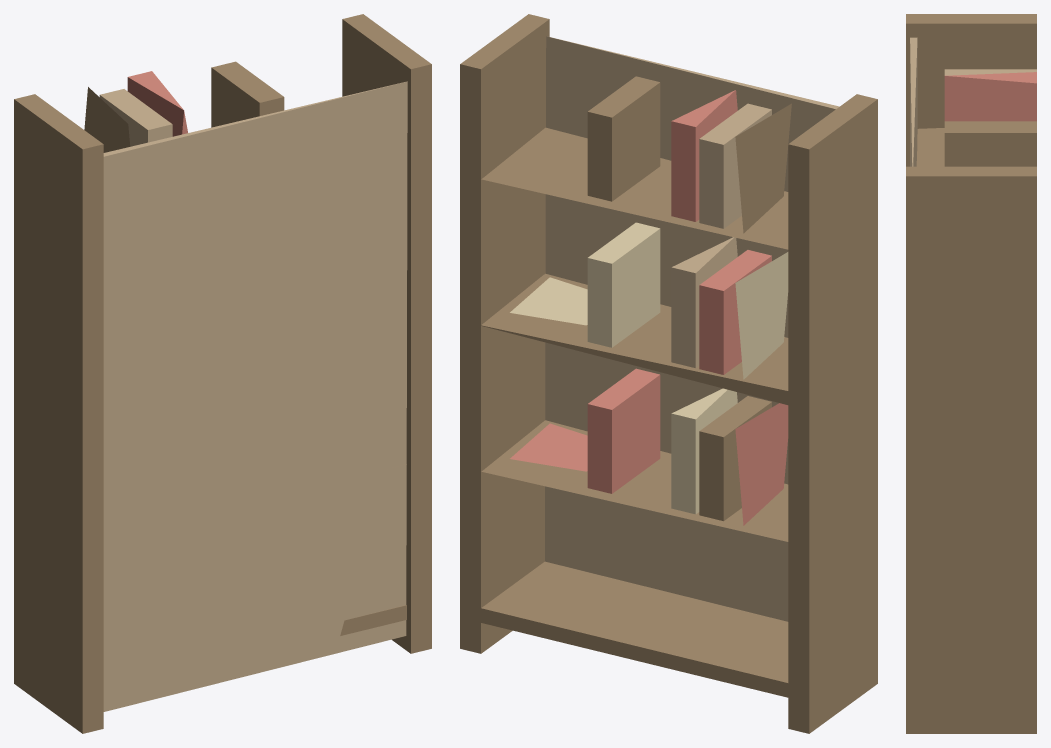
Rendered from 18-Casas_estanteria.glb.
3 renders of one model, left to right at view 1: azimuth 30°, elevation 25°; view 2: azimuth 150°, elevation 25°; view 3: azimuth 270°, elevation 25°, orthographic. The views are drawn at different scales.
Parts seen in each view (by area): view 1: SM_Estanteria_M_Mueble_Madera_Clara, SM_Estanteria_M_Mueble_Madera_Oscura, SM_Estanteria_M_Mueble_Lino_Mueble_Madera_Clara_Mueble_Tela_; view 2: SM_Estanteria_M_Mueble_Madera_Oscura, SM_Estanteria_M_Mueble_Madera_Clara, SM_Estanteria_M_Mueble_Lino_Mueble_Madera_Clara_Mueble_Tela_, SM_Estanteria_M_Mueble_Paja_Mueble_Tela_Roja_Mueble_Madera_C, SM_Estanteria_M_Mueble_Tela_Roja_Mueble_Lino_Mueble_Paja; view 3: SM_Estanteria_M_Mueble_Madera_Oscura, SM_Estanteria_M_Mueble_Lino_Mueble_Madera_Clara_Mueble_Tela_, SM_Estanteria_M_Mueble_Madera_Clara.
Boxes of the visible parts, x1,y1,x2,y2 form: SM_Estanteria_M_Mueble_Madera_Clara: (103,81,407,711); SM_Estanteria_M_Mueble_Madera_Oscura: (14,14,431,733); SM_Estanteria_M_Mueble_Lino_Mueble_Madera_Clara_Mueble_Tela_: (84,61,284,152); SM_Estanteria_M_Mueble_Madera_Oscura: (460,14,877,733); SM_Estanteria_M_Mueble_Madera_Clara: (545,36,839,621); SM_Estanteria_M_Mueble_Lino_Mueble_Madera_Clara_Mueble_Tela_: (510,76,791,233); SM_Estanteria_M_Mueble_Paja_Mueble_Tela_Roja_Mueble_Madera_C: (510,222,788,379); SM_Estanteria_M_Mueble_Tela_Roja_Mueble_Lino_Mueble_Paja: (510,368,788,525); SM_Estanteria_M_Mueble_Madera_Oscura: (906,14,1036,733); SM_Estanteria_M_Mueble_Lino_Mueble_Madera_Clara_Mueble_Tela_: (944,50,1036,166); SM_Estanteria_M_Mueble_Madera_Clara: (910,37,917,166).
Size of the model in its own units: 1 by 1.6 by 0.34.
